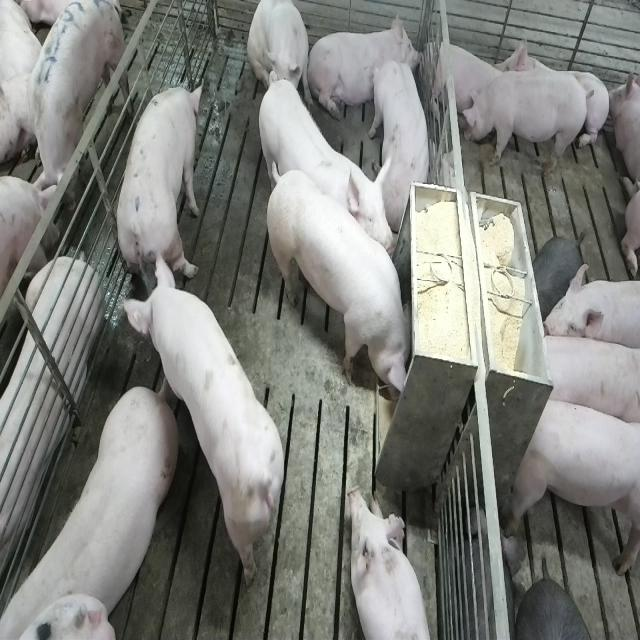Feeding: (270, 170, 421, 405)
Sitting: (247, 0, 311, 108)
Standing: (126, 260, 290, 600), (5, 377, 182, 635), (253, 73, 392, 262), (506, 393, 638, 581), (23, 0, 124, 219), (116, 81, 204, 300), (458, 67, 586, 177), (534, 334, 636, 431), (540, 268, 640, 354)
Sternal_lying: (498, 28, 609, 150), (347, 486, 433, 640), (312, 14, 420, 125), (427, 35, 500, 122), (608, 59, 640, 206)
